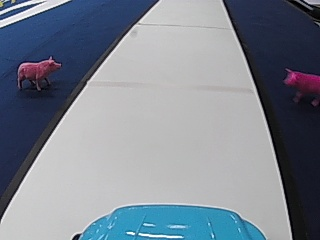pig: (15, 54, 61, 89), (281, 66, 319, 107)
